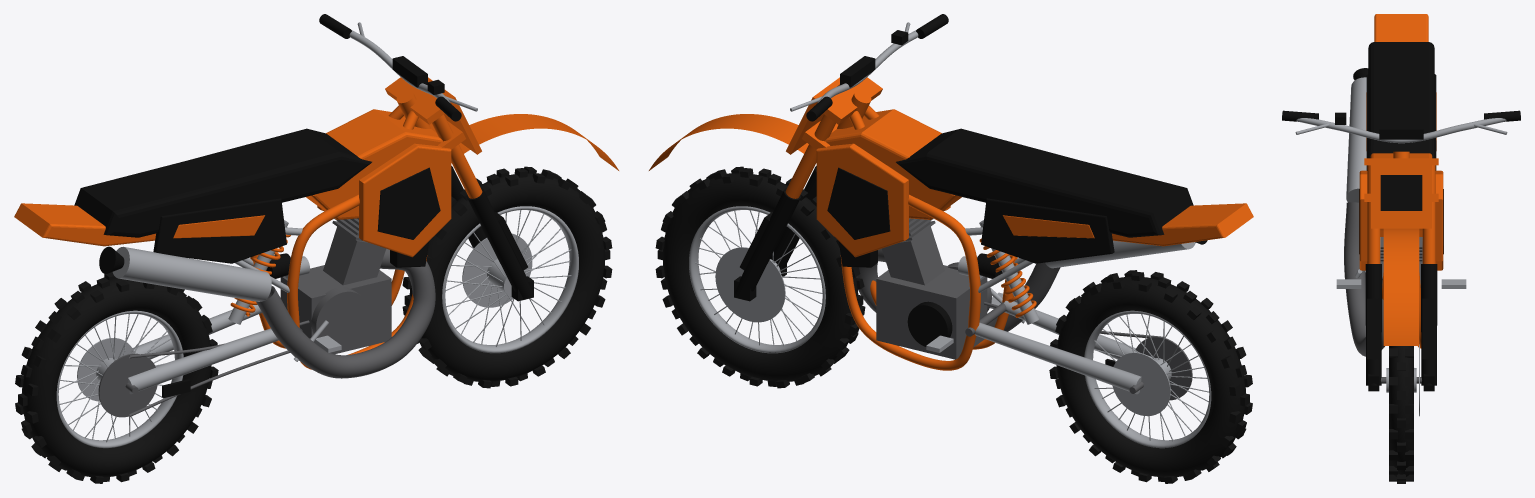
The model's file is motor_trail.obj.
3 views of the same model, side by side, from view 1: azimuth 30°, elevation 25°; view 2: azimuth 150°, elevation 25°; view 3: azimuth 270°, elevation 25° (orthographic). The views are drawn at different scales.
Visible parts, largest first — view 1: seat, rear_wheel_tire, front_wheel_tire, expansion_chamber, radiator_shroud_R, side_panel_R, silencer, fuel_tank, rear_wheel_knobs, crankcase, front_wheel_knobs, shroud_graphic_R (+20 smaller); view 2: seat, rear_wheel_tire, front_wheel_tire, crankcase, radiator_shroud_L, side_panel_L, rear_wheel_knobs, fuel_tank, front_wheel_knobs, shroud_graphic_L, rear_fender, front_wheel_brake_disc (+24 smaller); view 3: seat, front_fender, number_plate, expansion_chamber, silencer, front_wheel_tire, front_wheel_knobs, number_plate_field, rear_fender, handlebar, fork_lower_L, fork_lower_R (+11 smaller).
Part boxes in pixels (bbox=[...]): seat: bbox=[74, 128, 371, 237]; rear_wheel_tire: bbox=[22, 278, 211, 477]; front_wheel_tire: bbox=[409, 173, 605, 381]; expansion_chamber: bbox=[256, 248, 435, 378]; radiator_shroud_R: bbox=[359, 143, 451, 257]; side_panel_R: bbox=[153, 198, 286, 263]; silencer: bbox=[112, 246, 271, 301]; fuel_tank: bbox=[306, 109, 442, 219]; rear_wheel_knobs: bbox=[15, 272, 218, 483]; crankcase: bbox=[280, 265, 391, 354]; front_wheel_knobs: bbox=[402, 166, 612, 388]; shroud_graphic_R: bbox=[377, 167, 440, 239]; seat: bbox=[896, 128, 1193, 237]; rear_wheel_tire: bbox=[1056, 276, 1245, 477]; front_wheel_tire: bbox=[662, 173, 858, 381]; crankcase: bbox=[876, 265, 987, 359]; radiator_shroud_L: bbox=[816, 143, 908, 257]; side_panel_L: bbox=[981, 198, 1114, 263]; rear_wheel_knobs: bbox=[1049, 270, 1252, 483]; fuel_tank: bbox=[825, 109, 961, 219]; front_wheel_knobs: bbox=[655, 166, 865, 388]; shroud_graphic_L: bbox=[827, 167, 890, 239]; rear_fender: bbox=[1112, 203, 1253, 246]; front_wheel_brake_disc: bbox=[715, 247, 785, 322]; seat: bbox=[1368, 42, 1434, 158]; front_fender: bbox=[1383, 228, 1419, 345]; number_plate: bbox=[1371, 162, 1431, 228]; expansion_chamber: bbox=[1344, 202, 1384, 356]; silencer: bbox=[1346, 77, 1366, 202]; front_wheel_tire: bbox=[1389, 346, 1413, 476]; front_wheel_knobs: bbox=[1389, 348, 1413, 483]; number_plate_field: bbox=[1380, 175, 1422, 210]; rear_fender: bbox=[1374, 14, 1428, 41]; handlebar: bbox=[1296, 118, 1506, 143]; fork_lower_L: bbox=[1421, 264, 1437, 385]; fork_lower_R: bbox=[1365, 264, 1381, 385].
Size of the model in its own units: 2.2 by 1.25 by 0.8642.
